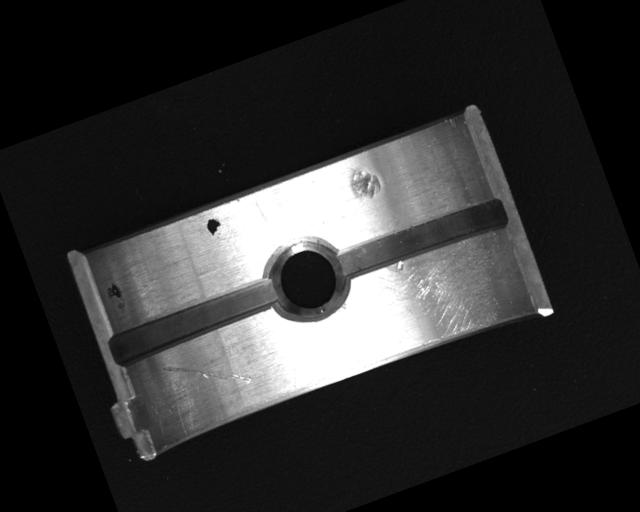blot: (103, 280, 128, 315), (204, 215, 225, 240)
bruise: (343, 157, 385, 204)
gap: (327, 191, 511, 290), (102, 270, 284, 369)
hole: (252, 226, 359, 336)
nick: (161, 338, 254, 411)
scratch: (346, 226, 526, 367)
